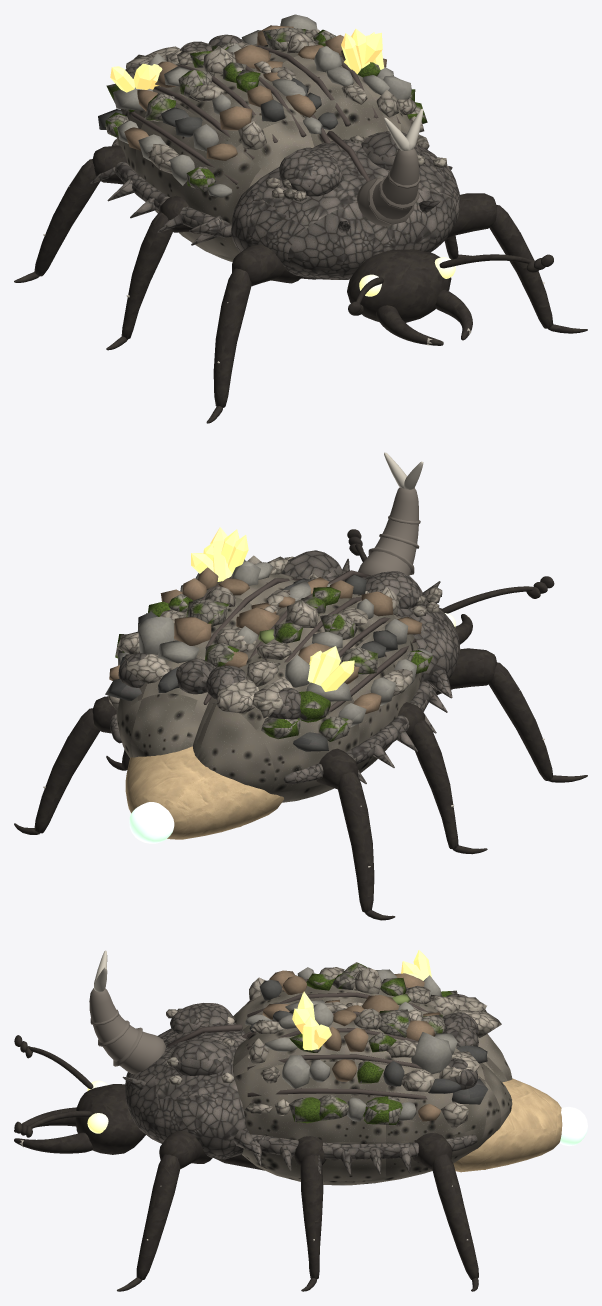
Rendered from rock_beetle_v3.glb.
3 views of the same model, one above another, from view 1: azimuth 30°, elevation 25°; view 2: azimuth 150°, elevation 25°; view 3: azimuth 270°, elevation 25° (orthographic). The views are drawn at different scales.
Visible parts, largest first — view 1: body, leg_l0, leg_r0, leg_l2, leg_l1; view 2: body, leg_l0, leg_l2, leg_r2, leg_l1; view 3: body, leg_r0, leg_r2, leg_r1.
Boxes of the visible parts, box(x1,y1,x2,y2) form: body: box(90, 14, 553, 345); leg_l0: box(206, 244, 302, 423); leg_r0: box(445, 193, 587, 333); leg_l2: box(14, 145, 127, 282); leg_l1: box(106, 195, 192, 350); body: box(105, 452, 554, 843); leg_l0: box(436, 648, 587, 782); leg_l2: box(316, 748, 395, 920); leg_r2: box(14, 696, 116, 834); leg_l1: box(398, 702, 487, 854); body: box(14, 950, 587, 1185); leg_r0: box(117, 1131, 212, 1291); leg_r2: box(412, 1133, 478, 1291); leg_r1: box(294, 1136, 326, 1291).
Bounding box in the file's own units: 1.16 × 0.7937 × 1.65.
Materials: 17 (9 with a texture image).
